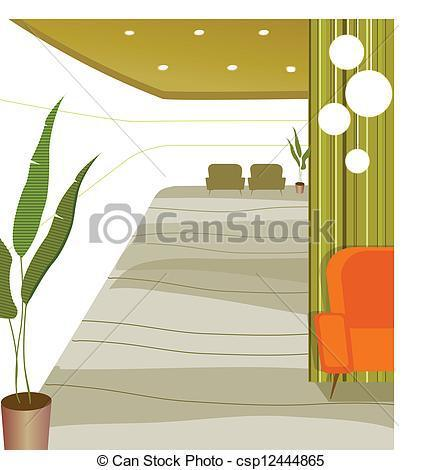pottedplant: (1, 92, 70, 456), (291, 128, 306, 197)
sofa: (313, 245, 395, 372), (204, 161, 246, 196), (246, 163, 287, 195)
